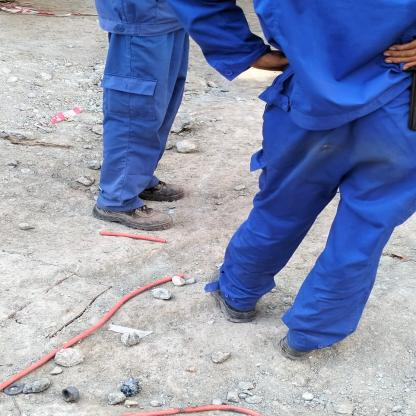bota: (97, 193, 177, 234), (208, 270, 253, 316), (133, 176, 189, 203), (281, 332, 318, 359)
